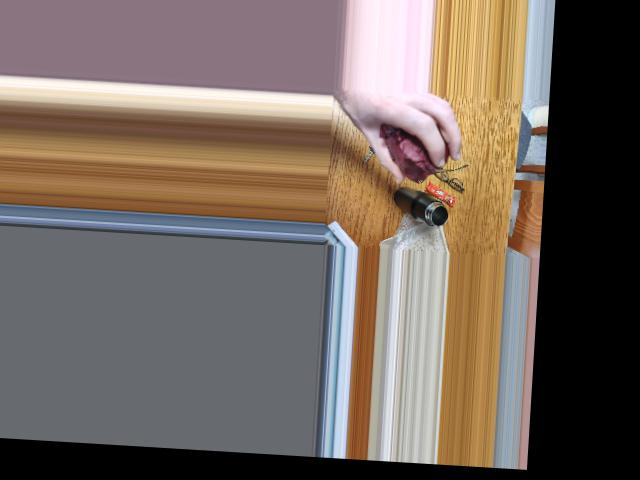onion: (378, 121, 449, 179)
